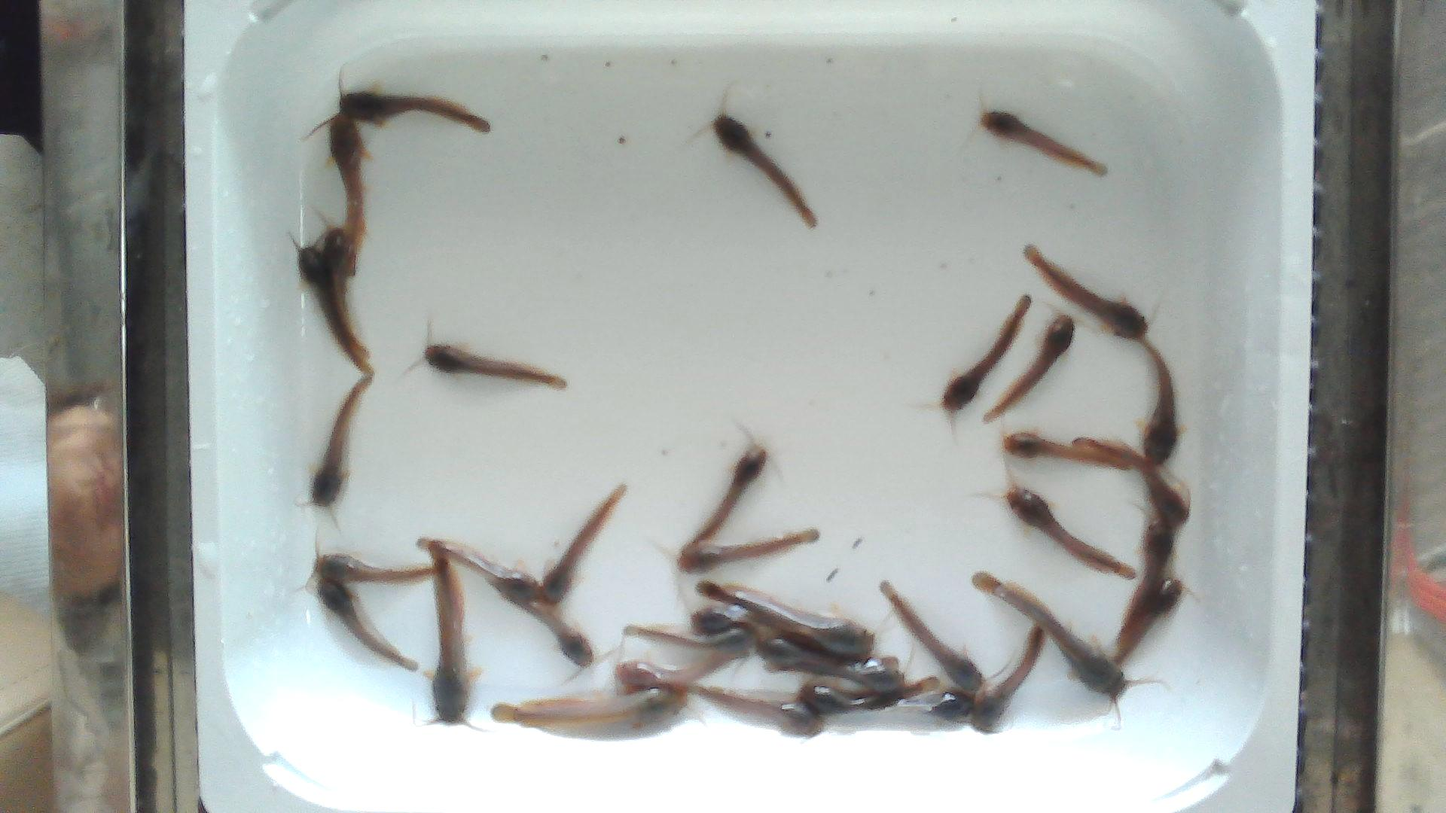lele: (972, 572, 1123, 697), (699, 577, 876, 658), (1005, 487, 1135, 579), (712, 114, 816, 227), (880, 581, 983, 692), (1025, 246, 1147, 338), (941, 294, 1030, 413), (541, 484, 627, 603), (1073, 438, 1189, 524), (296, 249, 375, 375), (316, 576, 419, 671), (984, 315, 1074, 421), (969, 625, 1045, 731), (426, 541, 470, 723), (981, 111, 1106, 175), (310, 379, 370, 506), (416, 538, 538, 600), (693, 443, 767, 542), (491, 686, 681, 724), (685, 683, 823, 734), (1117, 518, 1174, 639), (501, 593, 592, 668), (676, 529, 820, 574), (339, 90, 490, 132), (1113, 579, 1183, 668), (425, 344, 566, 388), (324, 227, 371, 358), (1137, 334, 1177, 465), (805, 675, 940, 713), (1004, 433, 1138, 471), (617, 651, 754, 688), (331, 114, 364, 257), (768, 660, 905, 691), (755, 638, 895, 667), (316, 554, 436, 584), (851, 691, 973, 720), (625, 623, 751, 649), (692, 607, 760, 642)
